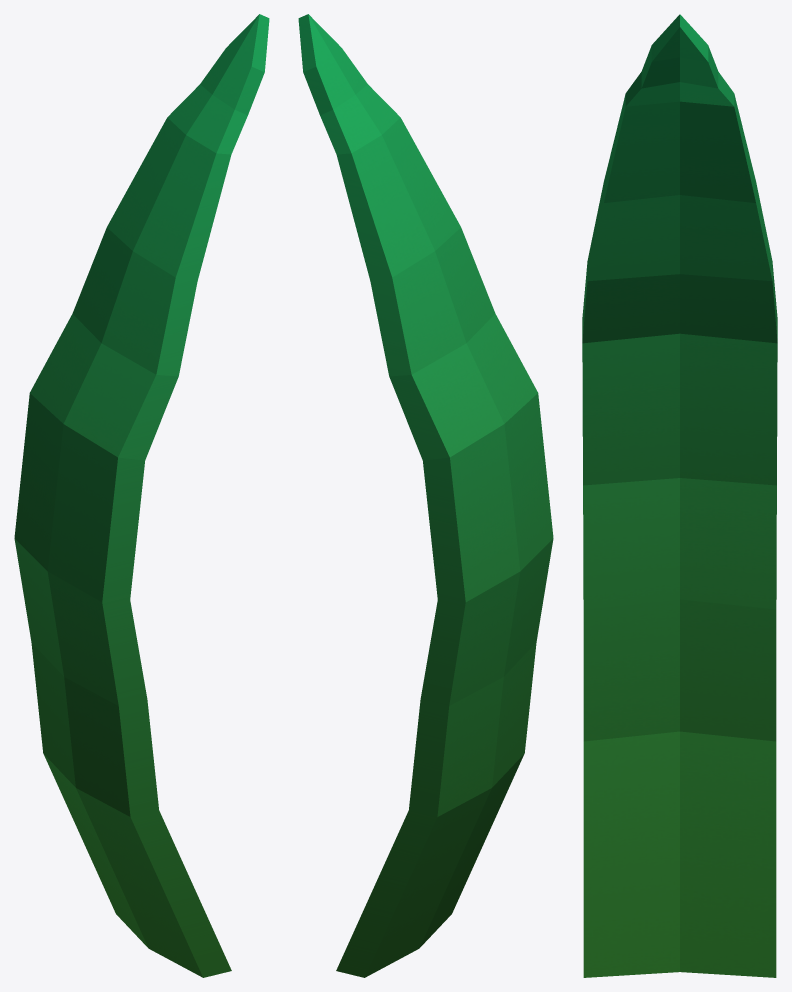
Rendered from objGrass1.fbx.
3 views of the same model, side by side, from view 1: azimuth 30°, elevation 25°; view 2: azimuth 150°, elevation 25°; view 3: azimuth 270°, elevation 25° (orthographic). The views are drawn at different scales.
Visible parts, largest first — view 1: pCube7; view 2: pCube7; view 3: pCube7.
Part boxes in pixels (x1,y1,x2,y2): pCube7: [14, 14, 269, 977]; pCube7: [298, 14, 553, 977]; pCube7: [582, 14, 777, 977].
Bounding box in the file's own units: 238 × 931 × 164.
